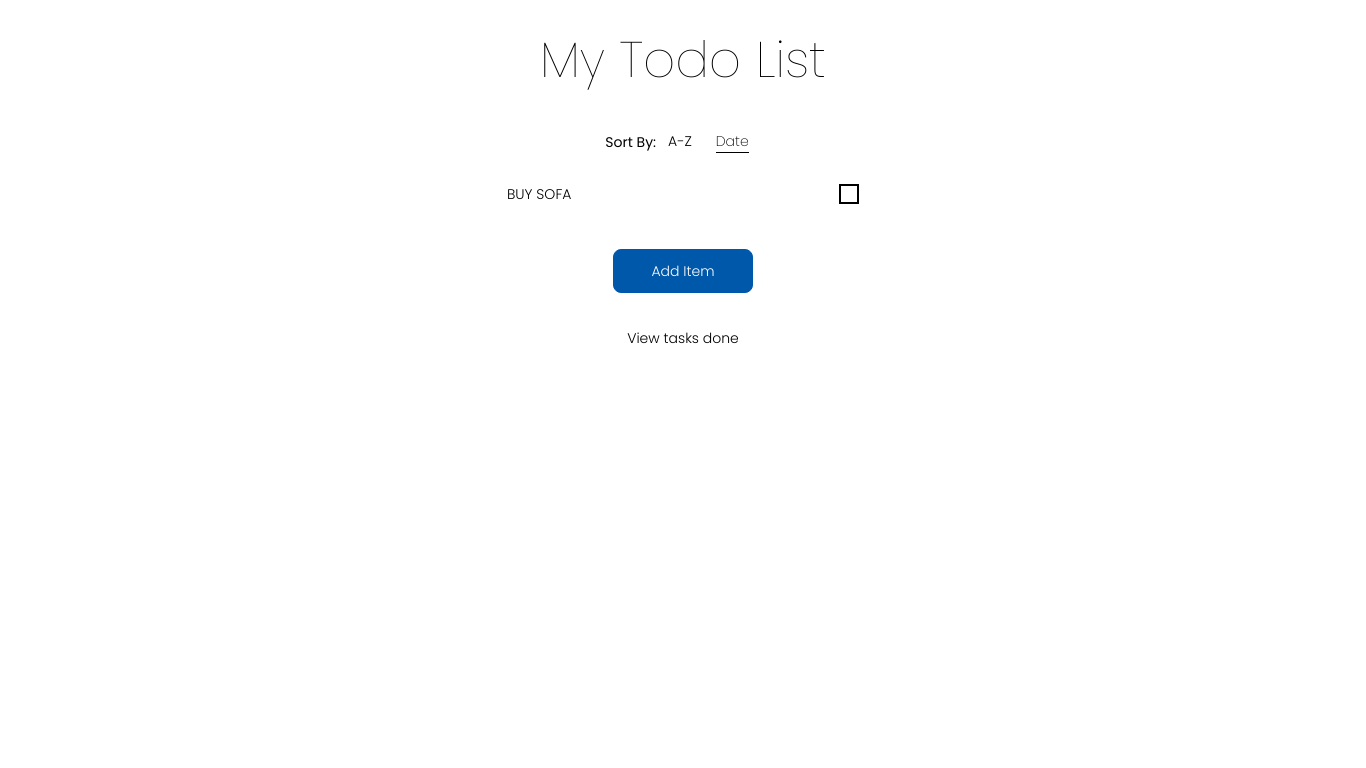
Test: open modal
The width and height of the screenshot is (1366, 768).
Step 1. Click the button "Add Item" → point(683, 271), box [613, 249, 753, 293]
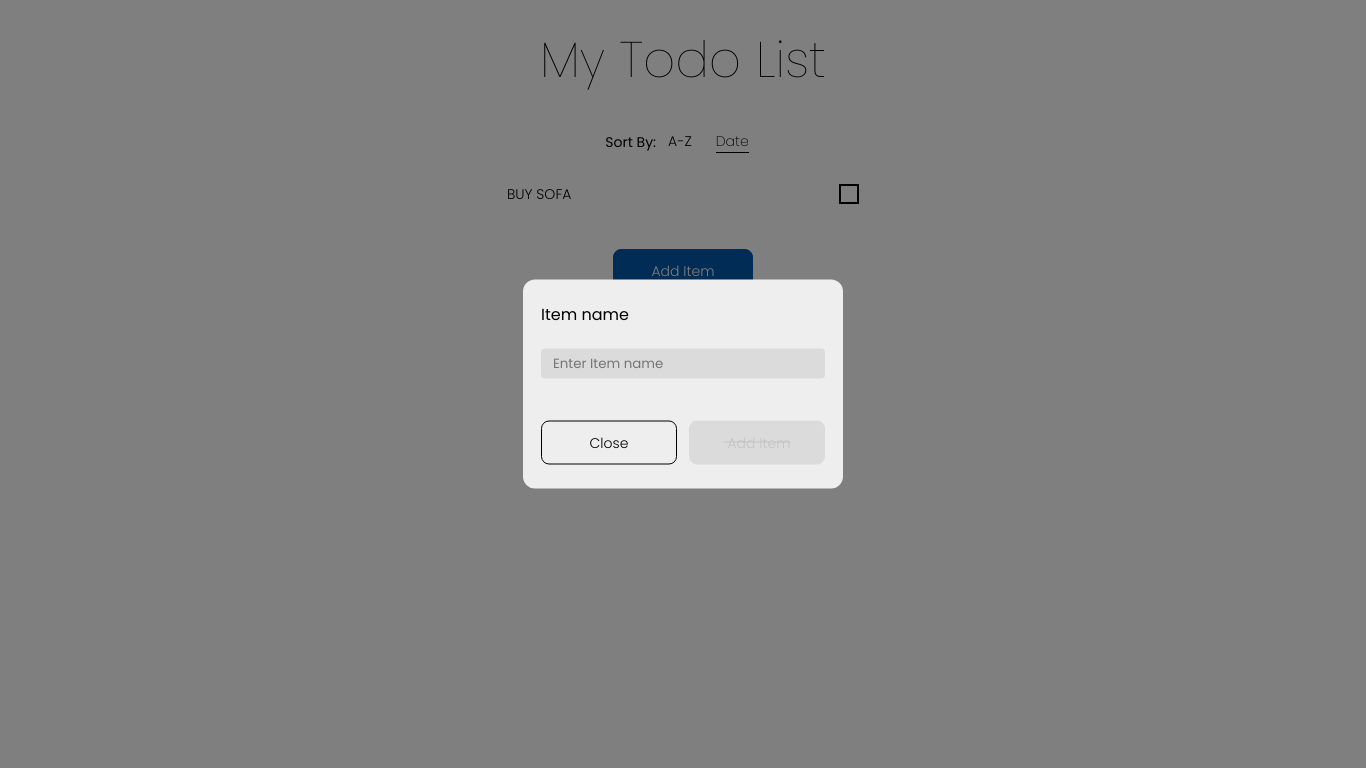
Expected: the heading "Close" is shown, [590, 432, 628, 453]
